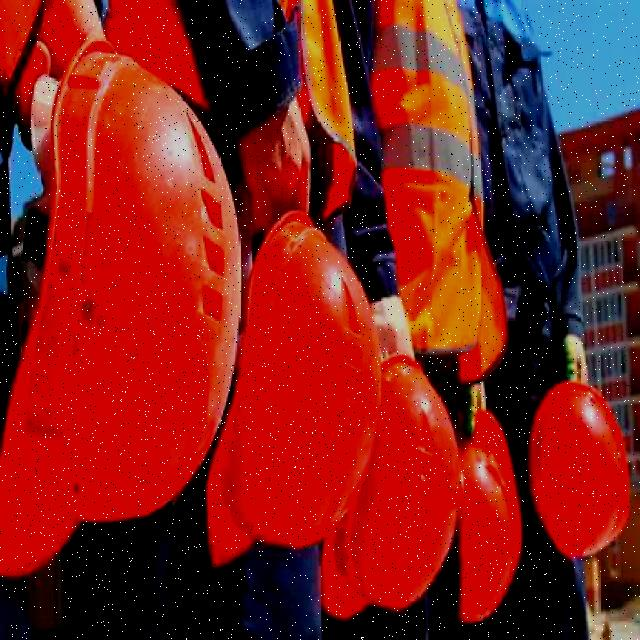Helmet: (0, 38, 245, 580), (204, 208, 382, 574), (318, 352, 464, 623), (528, 379, 632, 561), (459, 408, 524, 624)
Mask: (370, 0, 510, 386)
